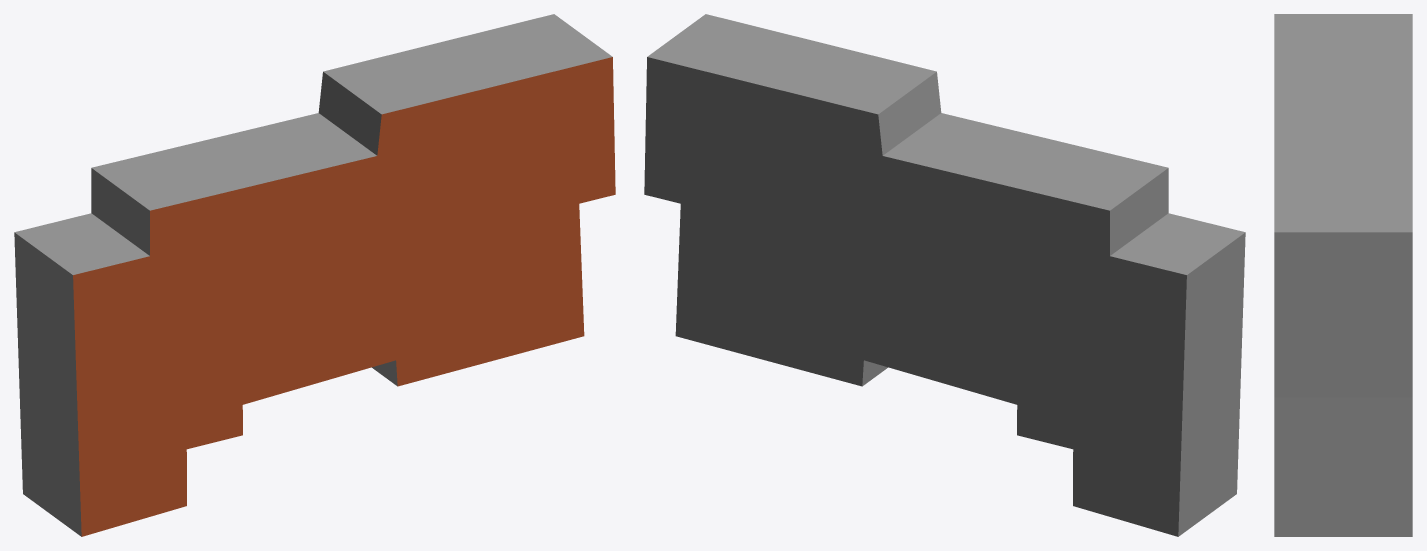
The model's file is construction_6157_assumed_A_Casa_h6m.obj.
3 views of the same model, side by side, from view 1: azimuth 30°, elevation 25°; view 2: azimuth 150°, elevation 25°; view 3: azimuth 270°, elevation 25° (orthographic). The views are drawn at different scales.
Visible parts, largest first — view 1: construction_6157_assumed_A_Casa; view 2: construction_6157_assumed_A_Casa; view 3: construction_6157_assumed_A_Casa.
Boxes of the visible parts, x1,y1,x2,y2 form: construction_6157_assumed_A_Casa: [14, 14, 615, 536]; construction_6157_assumed_A_Casa: [644, 14, 1245, 536]; construction_6157_assumed_A_Casa: [1274, 14, 1412, 536].
Size of the model in its own units: 32.03 by 19.76 by 6.
